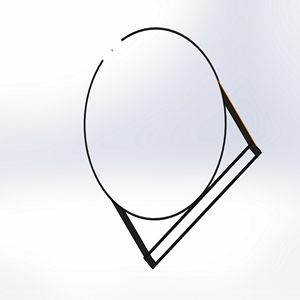circle: (80, 25, 262, 269)
